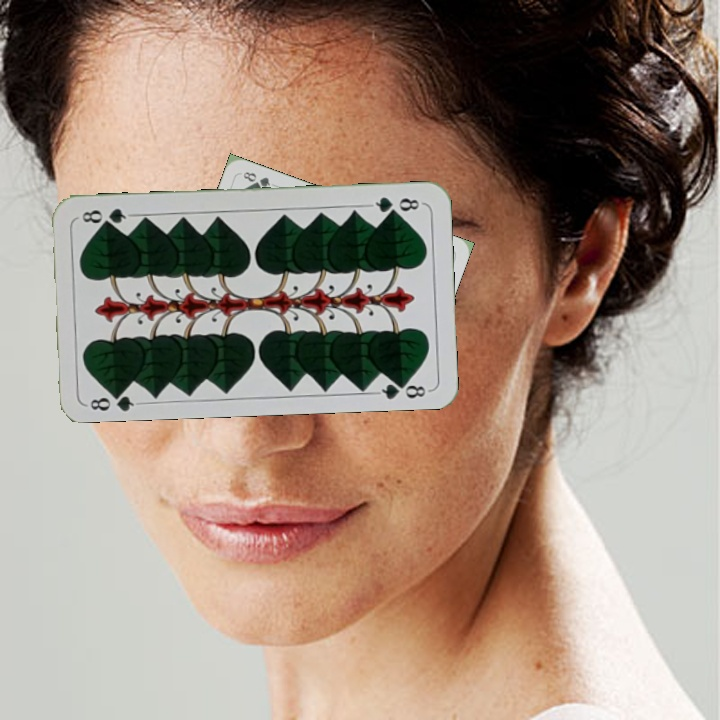G8: (86, 385, 142, 413), (366, 192, 425, 216)
